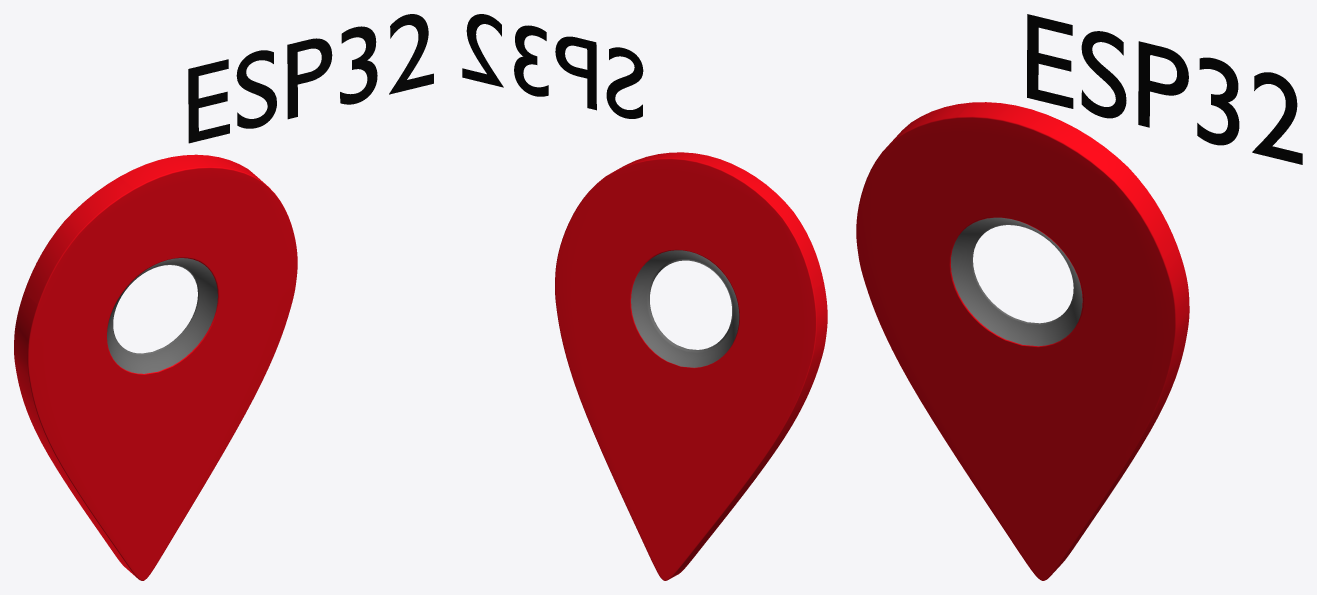
Rendered from esp32.fbx.
The picture shows the model from 3 angles, left to right: view 1: azimuth 30°, elevation 25°; view 2: azimuth 150°, elevation 25°; view 3: azimuth 330°, elevation 25°; orthographic projection. The views are drawn at different scales.
Parts seen in each view (by area): view 1: Plane.001, ESP32.001; view 2: Plane.001, ESP32.001; view 3: Plane.001, ESP32.001.
Part boxes in pixels (left/top/right/bottom): Plane.001: left=14, top=154, right=297, bottom=580; ESP32.001: left=188, top=14, right=433, bottom=143; Plane.001: left=555, top=152, right=827, bottom=580; ESP32.001: left=462, top=14, right=643, bottom=118; Plane.001: left=856, top=102, right=1189, bottom=580; ESP32.001: left=1027, top=14, right=1302, bottom=164.
Bounding box in the file's own units: 193 × 244 × 38.47.
